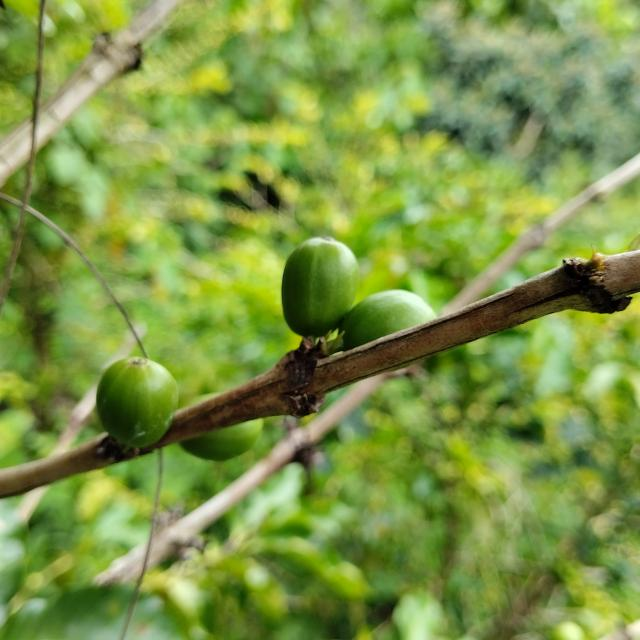green: (281, 237, 359, 337), (96, 357, 178, 448), (340, 290, 437, 351), (180, 419, 263, 462), (190, 393, 219, 405)
